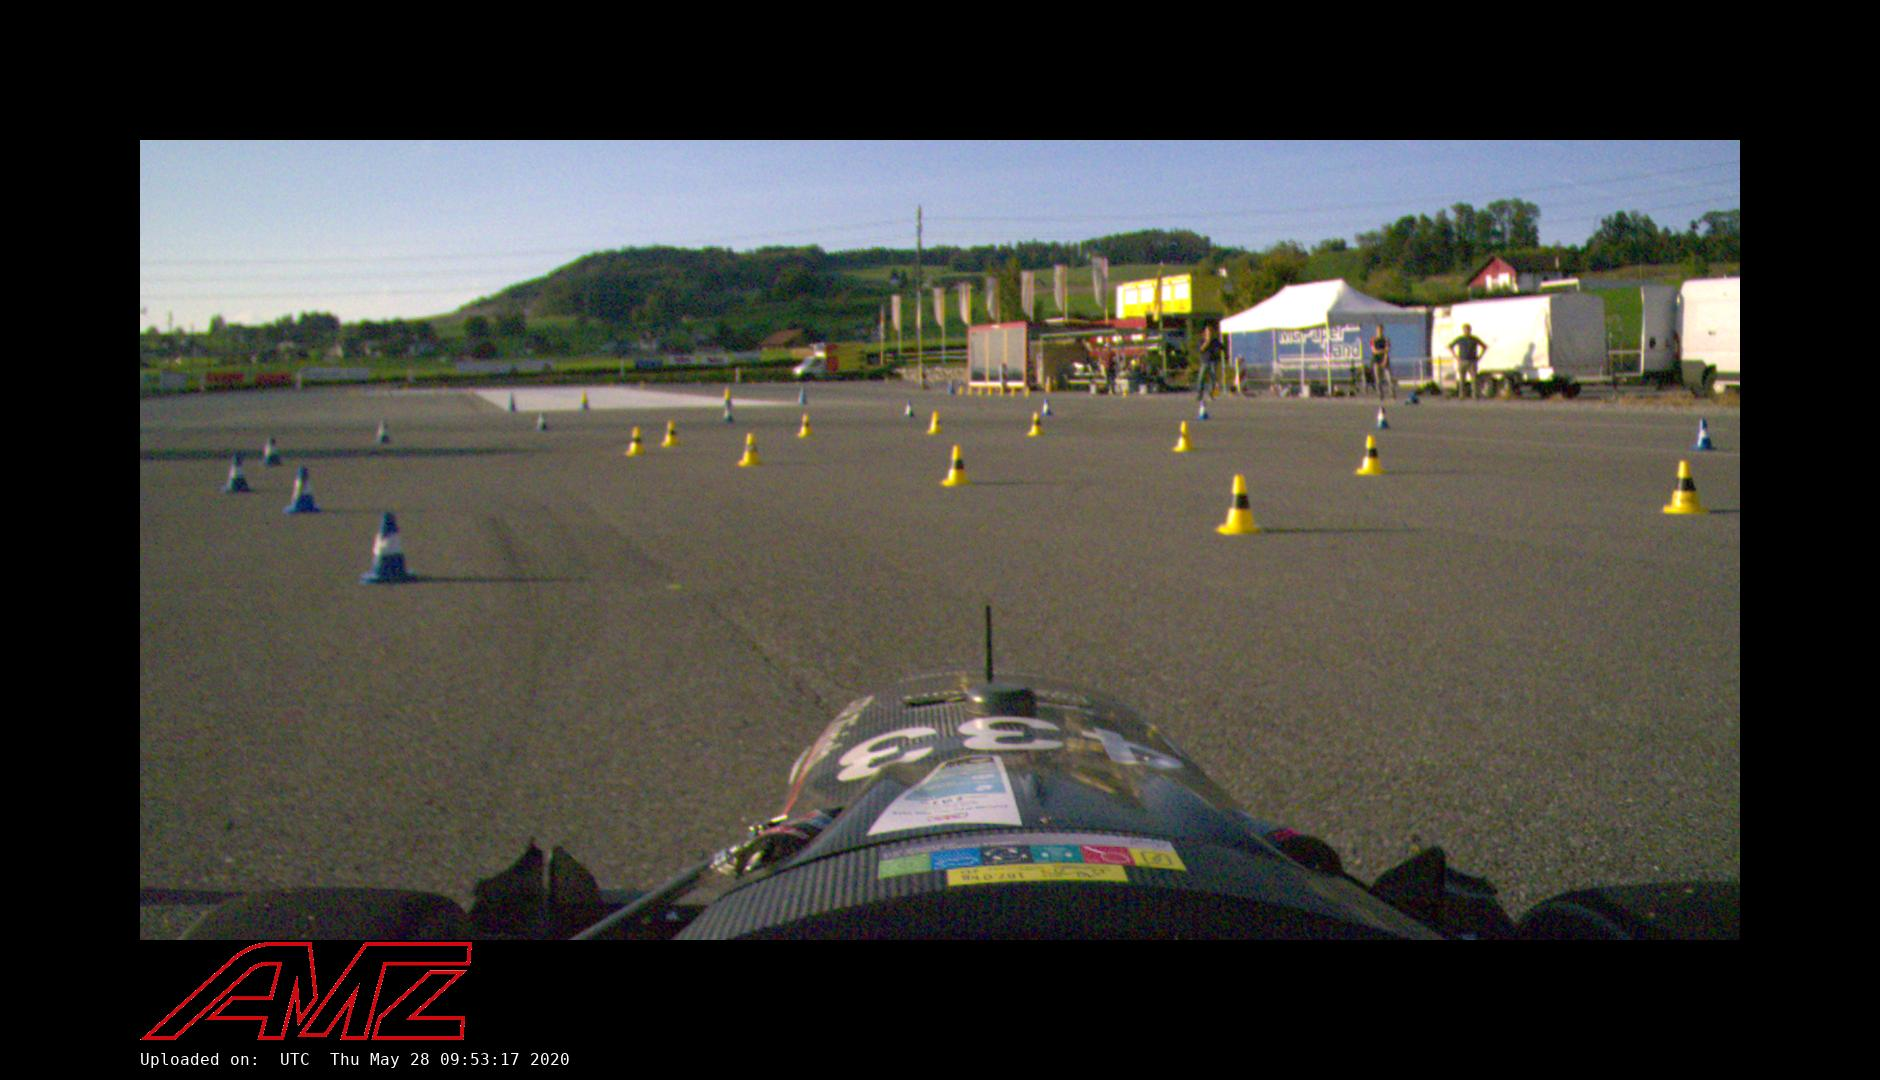blue_cone: (358, 512, 418, 583), (283, 468, 320, 513), (220, 453, 250, 493), (1691, 419, 1717, 452), (260, 438, 283, 466), (374, 419, 393, 444), (1373, 407, 1391, 430), (1196, 400, 1211, 420), (903, 400, 915, 419), (1041, 399, 1054, 416)
yellow_cone: (1215, 474, 1264, 536), (1663, 460, 1711, 515), (940, 444, 974, 486), (1354, 435, 1385, 475), (736, 434, 764, 466), (1171, 421, 1200, 452), (624, 428, 647, 457), (660, 421, 682, 447), (926, 411, 946, 434), (1027, 412, 1046, 435), (797, 413, 815, 438)
